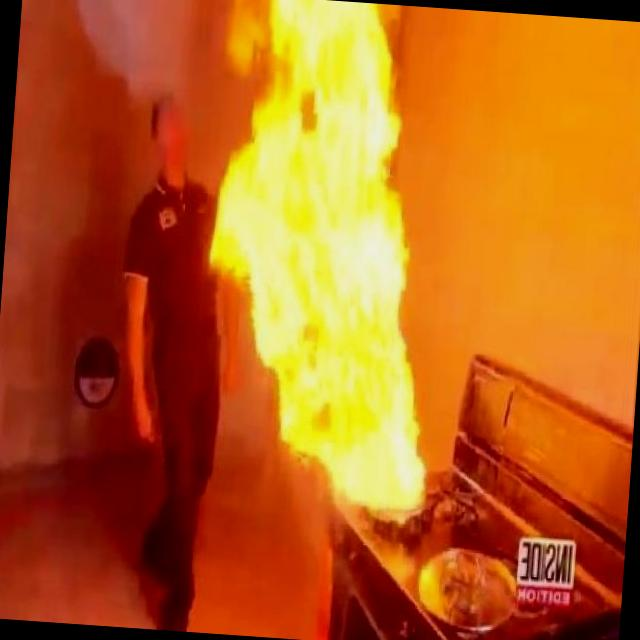fire: (160, 0, 500, 534)
